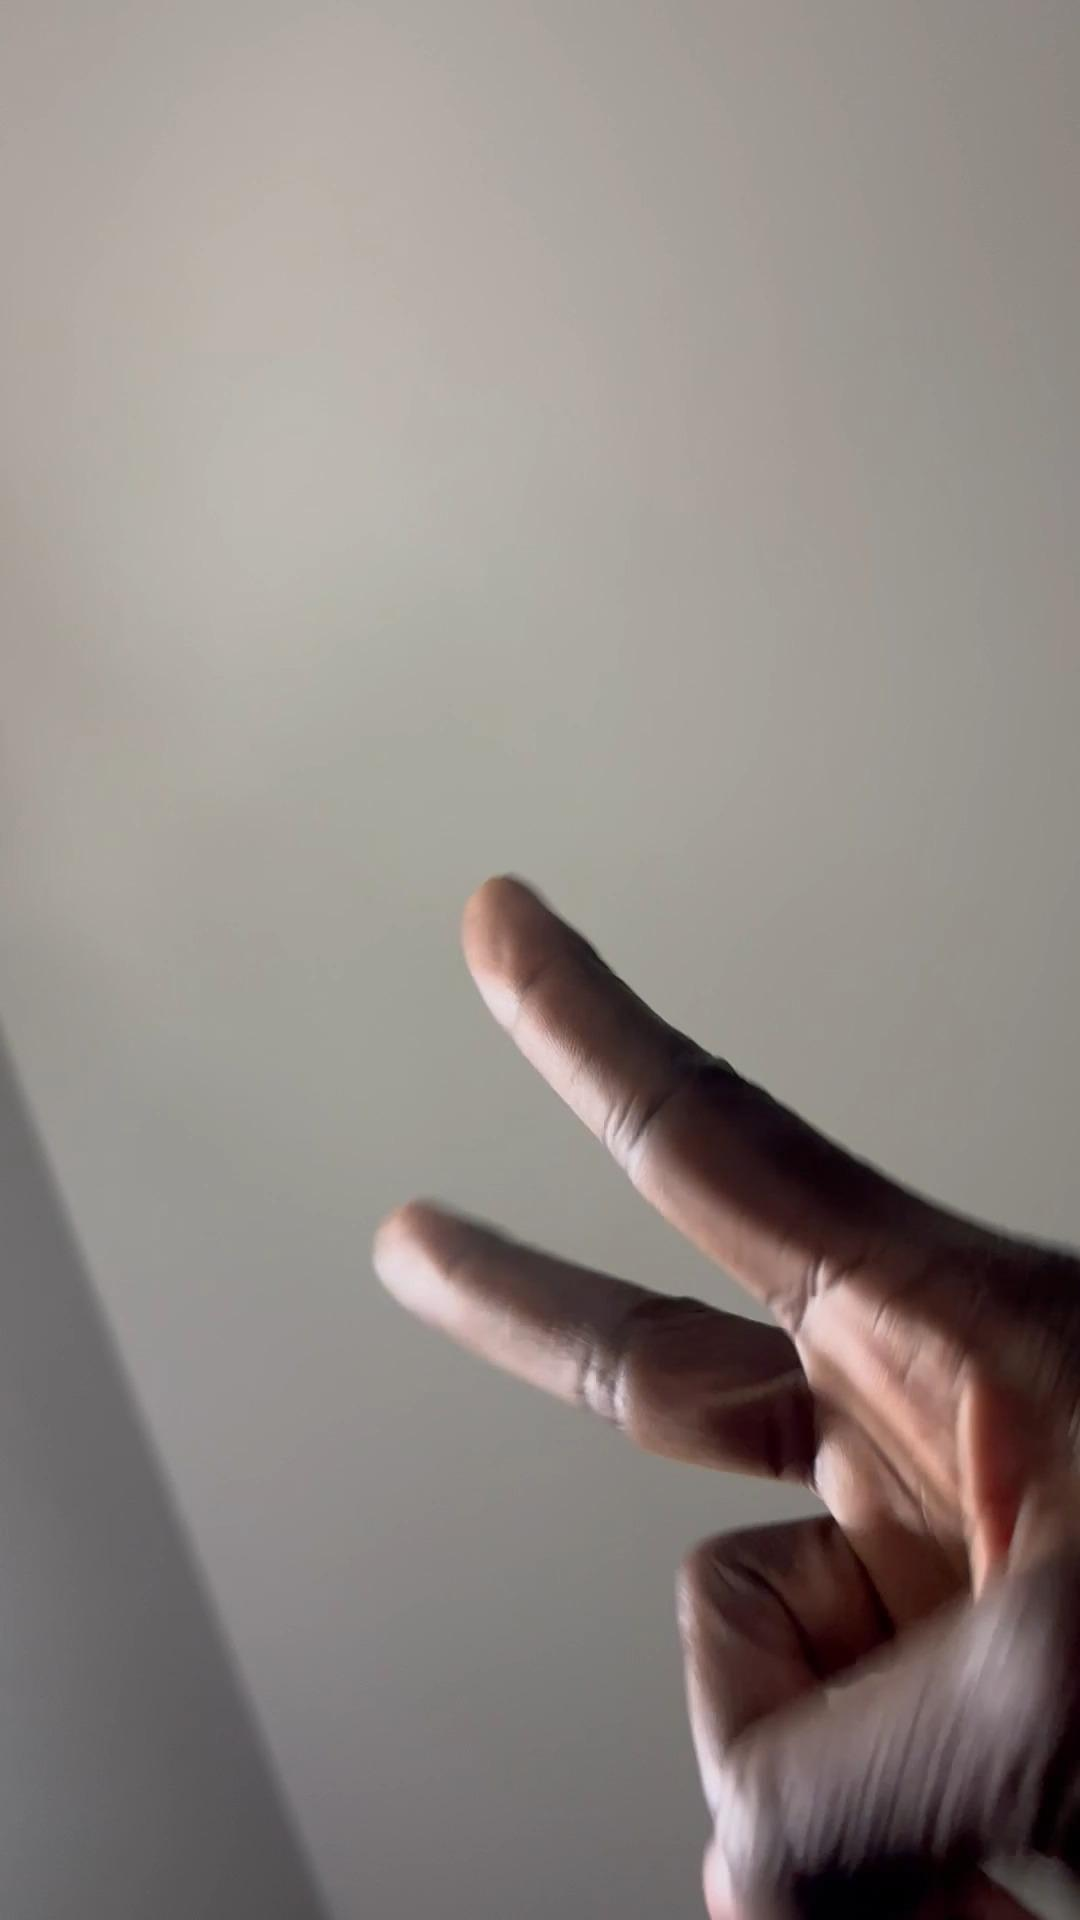Scissors: (377, 870, 1080, 1920)
